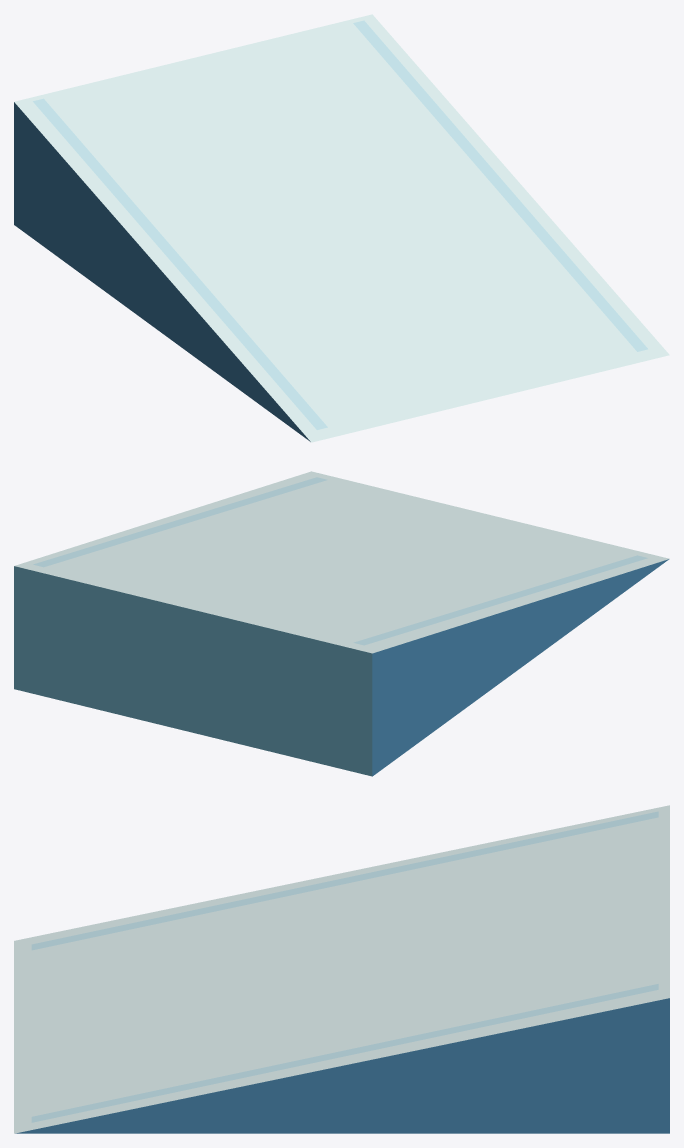
The model's file is ramp.glb.
The picture shows the model from 3 angles, top to bottom: view 1: azimuth 30°, elevation 25°; view 2: azimuth 150°, elevation 25°; view 3: azimuth 270°, elevation 25°; orthographic projection. The views are drawn at different scales.
Parts seen in each view (by area): view 1: ramp; view 2: ramp; view 3: ramp.
Part boxes in pixels (x1,y1,x2,y2): ramp: [14, 14, 669, 442]; ramp: [14, 471, 669, 776]; ramp: [14, 805, 669, 1133].
Bounding box in the file's own units: 3.2 × 1.06 × 4.6.
